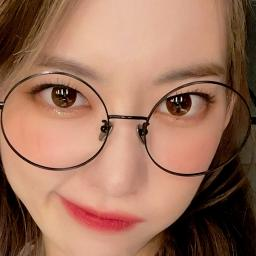face: (0, 0, 230, 256)
